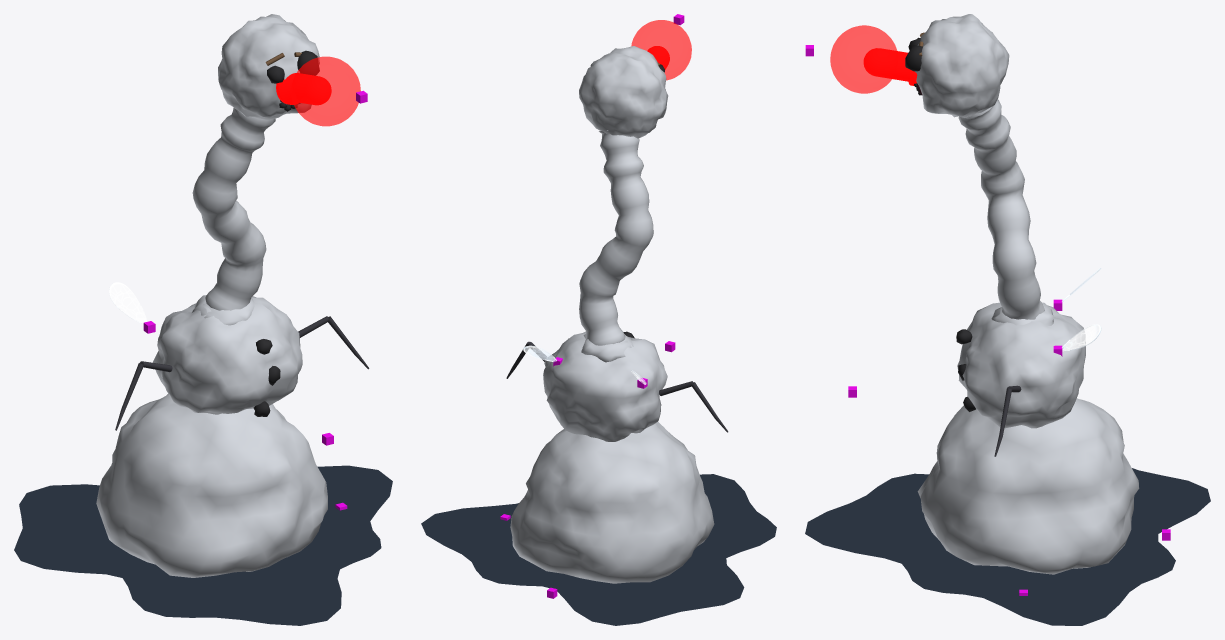
Rendered from 08_pupazzo_skibidi.glb.
3 renders of one model, left to right at view 1: azimuth 30°, elevation 25°; view 2: azimuth 150°, elevation 25°; view 3: azimuth 270°, elevation 25°, orthographic. The views are drawn at different scales.
Parts seen in each view (by area): view 1: Pupazzo__Neve_Bagnata, Pupazzo__Pozzanghera, Pupazzo__Neve_Bagnata__Collo, Pupazzo__Neve_Bagnata__Testa, Pupazzo__Alone_LED__Testa, Pupazzo__LED_RGB__Testa, Pupazzo__Zampette, Pupazzo__Alucce_Mosca__Aluccia_L, Pupazzo__Carbone__Testa, Pupazzo__Carbone; view 2: Pupazzo__Neve_Bagnata, Pupazzo__Pozzanghera, Pupazzo__Neve_Bagnata__Collo, Pupazzo__Neve_Bagnata__Testa, Pupazzo__Alone_LED__Testa, Pupazzo__Zampette; view 3: Pupazzo__Neve_Bagnata, Pupazzo__Pozzanghera, Pupazzo__Neve_Bagnata__Collo, Pupazzo__Neve_Bagnata__Testa, Pupazzo__Alone_LED__Testa, Pupazzo__LED_RGB__Testa, Pupazzo__Alucce_Mosca__Aluccia_R.
Boxes of the visible parts, bbox=[...] form: Pupazzo__Neve_Bagnata: bbox=[96, 296, 327, 577]; Pupazzo__Pozzanghera: bbox=[14, 465, 392, 625]; Pupazzo__Neve_Bagnata__Collo: bbox=[192, 108, 275, 325]; Pupazzo__Neve_Bagnata__Testa: bbox=[218, 14, 319, 119]; Pupazzo__Alone_LED__Testa: bbox=[291, 56, 360, 126]; Pupazzo__LED_RGB__Testa: bbox=[276, 73, 331, 105]; Pupazzo__Zampette: bbox=[115, 316, 369, 430]; Pupazzo__Alucce_Mosca__Aluccia_L: bbox=[109, 282, 147, 324]; Pupazzo__Carbone__Testa: bbox=[267, 50, 319, 111]; Pupazzo__Carbone: bbox=[253, 339, 280, 416]; Pupazzo__Neve_Bagnata: bbox=[510, 331, 714, 583]; Pupazzo__Pozzanghera: bbox=[421, 474, 776, 625]; Pupazzo__Neve_Bagnata__Collo: bbox=[579, 130, 653, 362]; Pupazzo__Neve_Bagnata__Testa: bbox=[579, 46, 668, 138]; Pupazzo__Alone_LED__Testa: bbox=[631, 20, 691, 80]; Pupazzo__Zampette: bbox=[506, 341, 728, 432]; Pupazzo__Neve_Bagnata: bbox=[917, 302, 1139, 574]; Pupazzo__Pozzanghera: bbox=[805, 468, 1210, 625]; Pupazzo__Neve_Bagnata__Collo: bbox=[958, 99, 1054, 325]; Pupazzo__Neve_Bagnata__Testa: bbox=[915, 14, 1009, 117]; Pupazzo__Alone_LED__Testa: bbox=[830, 25, 897, 93]; Pupazzo__LED_RGB__Testa: bbox=[863, 48, 917, 85]; Pupazzo__Alucce_Mosca__Aluccia_R: bbox=[1061, 324, 1101, 351].
Size of what is drawn, in the model's own units: 4.29 by 6.13 by 4.27.
11 materials, 1 textured.
